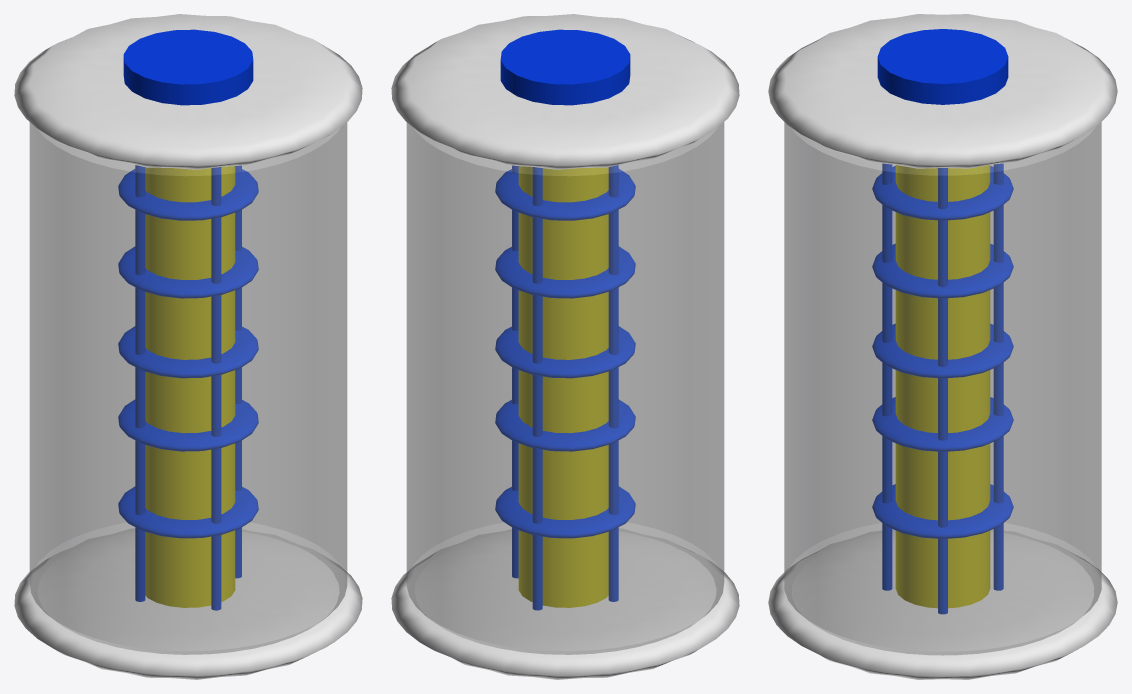
The model's file is Battery.fbx.
3 renders of one model, left to right at view 1: azimuth 30°, elevation 25°; view 2: azimuth 150°, elevation 25°; view 3: azimuth 270°, elevation 25°, orthographic.
Parts seen in each view (by area): view 1: pCylinder10; view 2: pCylinder10; view 3: pCylinder10.
Boxes of the visible parts, box(x1,y1,x2,y2) form: pCylinder10: box(14, 14, 362, 679); pCylinder10: box(391, 14, 739, 679); pCylinder10: box(768, 14, 1117, 679).
Size of the model in its own units: 7.4 by 13.08 by 7.4.
